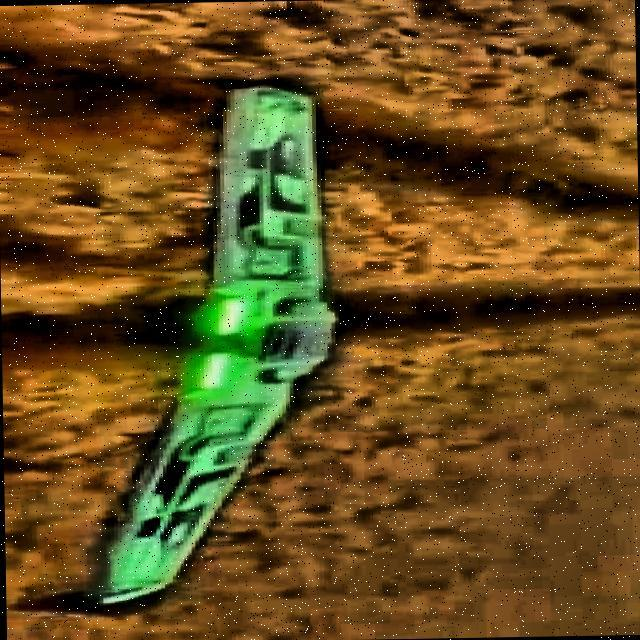iha: (12, 59, 349, 628)
